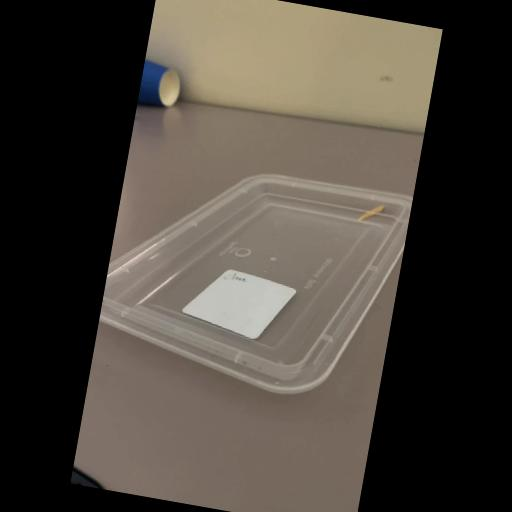rigid_plastic_lid: (92, 142, 414, 409)
